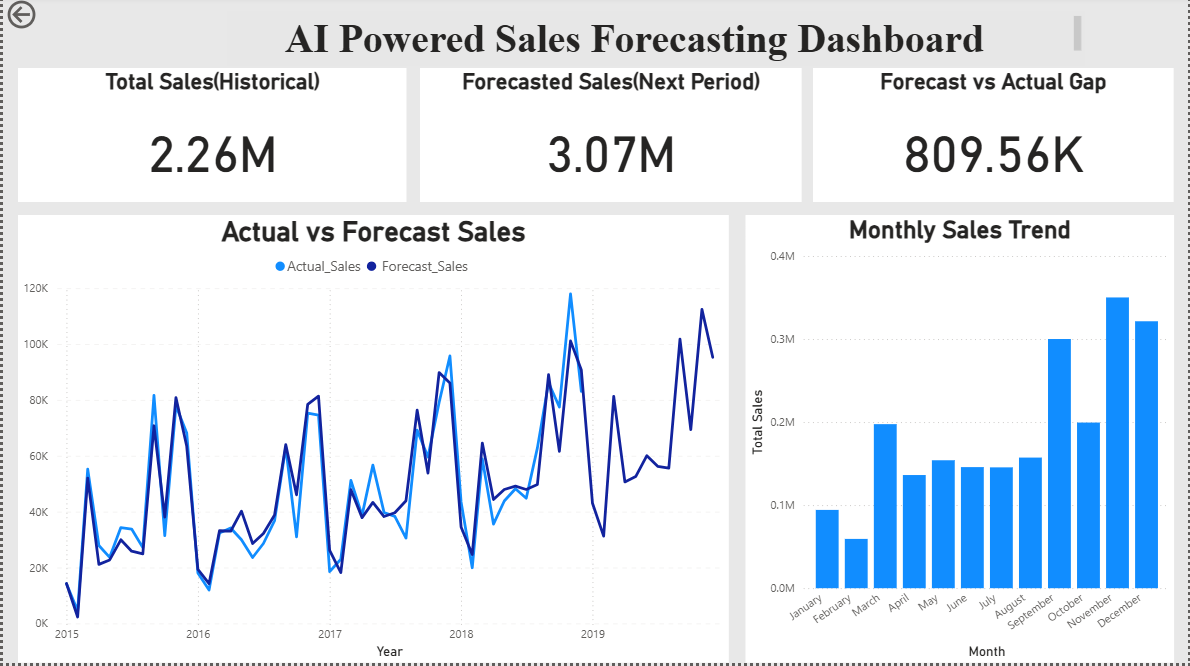

This screenshot's page, from the dashboard's own definition file:
{"tool":"powerbi","page":{"name":"Page 1","canvas":[1280,720],"ordinal":0},"visuals":[{"type":"lineChart","title":"Actual vs Forecast Sales","fields":{"Y":["Sum(final_dashboard_data.Actual_Sales)","Sum(final_dashboard_data.yhat)"],"Category":["final_dashboard_data.ds.Variation.Date Hierarchy.Year","final_dashboard_data.ds.Variation.Date Hierarchy.Month"]},"box":[16.9,237.1,767.6,483.5],"z":0},{"type":"card","title":"Total Sales(Historical)","fields":{"Values":["Sum(Superstore.Sales)"]},"box":[16.9,77.1,419.6,144.9],"z":2000},{"type":"card","title":"Forecasted Sales(Next Period)","fields":{"Values":["Sum(final_dashboard_data.Forecast_Sales)"]},"box":[449.7,77.1,412,144.9],"z":3000},{"type":"card","title":"Forecast vs Actual Gap","fields":{"Values":["final_dashboard_data.Forecast Gap"]},"box":[874.9,77.1,389.5,144.9],"z":4000},{"type":"textbox","box":[240.8,16.9,927.6,60.2],"z":7000},{"type":"actionButton","box":[0,0,100,40],"z":8000},{"type":"clusteredColumnChart","title":"Monthly Sales Trend ","fields":{"Y":["Sum(Superstore.Sales)"],"Category":["Superstore.Order Date.Variation.Date Hierarchy.Month"]},"box":[801.5,237.1,462.8,483.5],"z":8001}]}

Visuals, with their boxes in screenshot pixels (x1, y1, x2, y2), scaled from the page's 1280x720 canvas onto the 1190x666 screenshot:
"Actual vs Forecast Sales" lineChart: [left=16, top=219, right=729, bottom=665]
"Total Sales(Historical)" card: [left=16, top=71, right=406, bottom=205]
"Forecasted Sales(Next Period)" card: [left=418, top=71, right=801, bottom=205]
"Forecast vs Actual Gap" card: [left=813, top=71, right=1175, bottom=205]
textbox: [left=224, top=16, right=1086, bottom=71]
actionButton: [left=0, top=0, right=93, bottom=37]
"Monthly Sales Trend " clusteredColumnChart: [left=745, top=219, right=1175, bottom=665]
